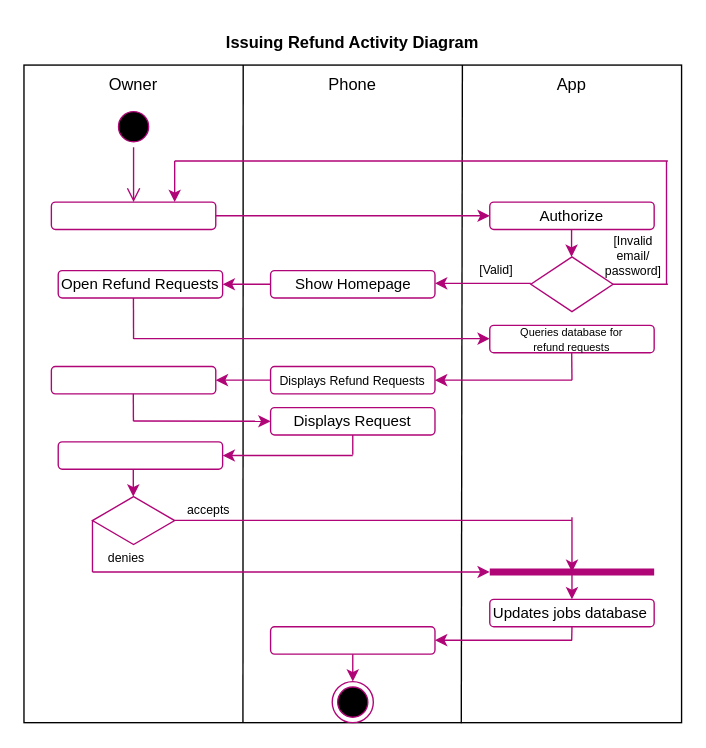
Some shapes in this 706 by 748 pixel diagram are drawn without their labels. Each missing label, with the box of its shape:
Displays confirmation and updated info: (269, 625, 435, 654)
Inputs info: (57, 440, 223, 469)
Log in: (50, 201, 216, 229)
Selects specific request: (50, 365, 216, 394)
